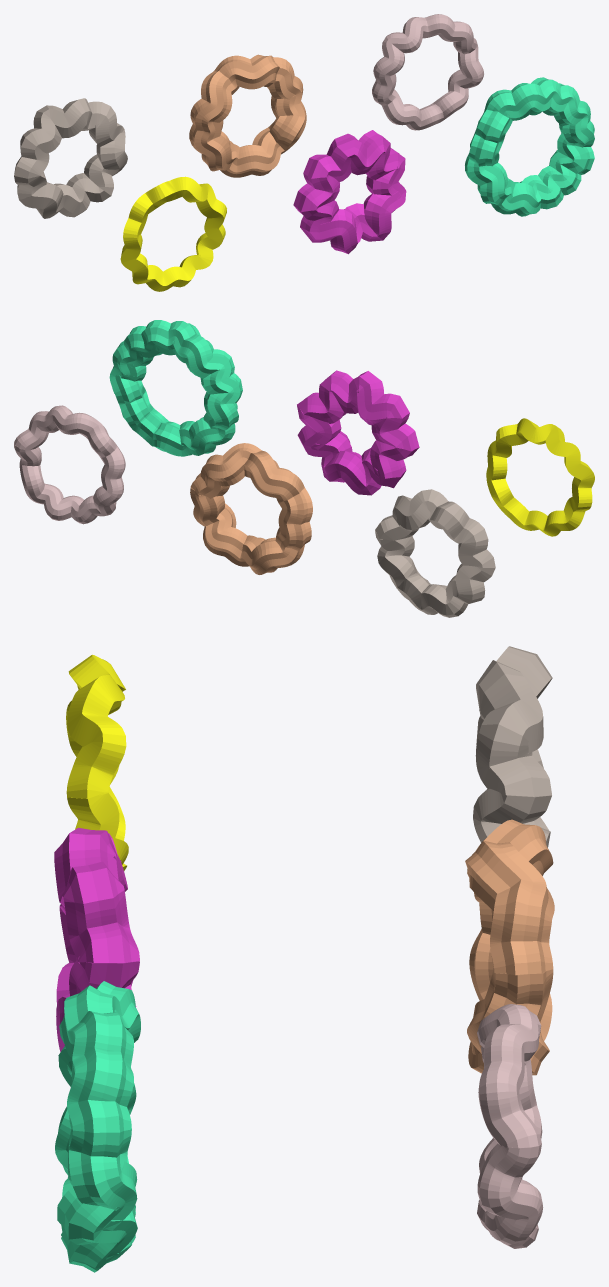
The model's file is Phong Texturized_Closed Spline_2023-07-23-20-47-44.gltf.
3 renders of one model, top to bottom at view 1: azimuth 30°, elevation 25°; view 2: azimuth 150°, elevation 25°; view 3: azimuth 270°, elevation 25°, orthographic. The views are drawn at different scales.
Size of the model in its own units: 536 by 142 by 242.
